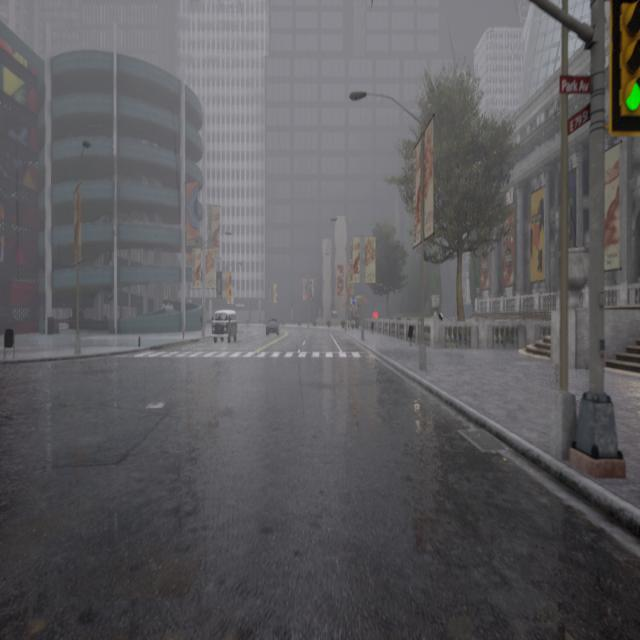bien_chi_dan: (611, 76, 640, 119)
bien_nguy_hiem: (582, 2, 640, 146)
